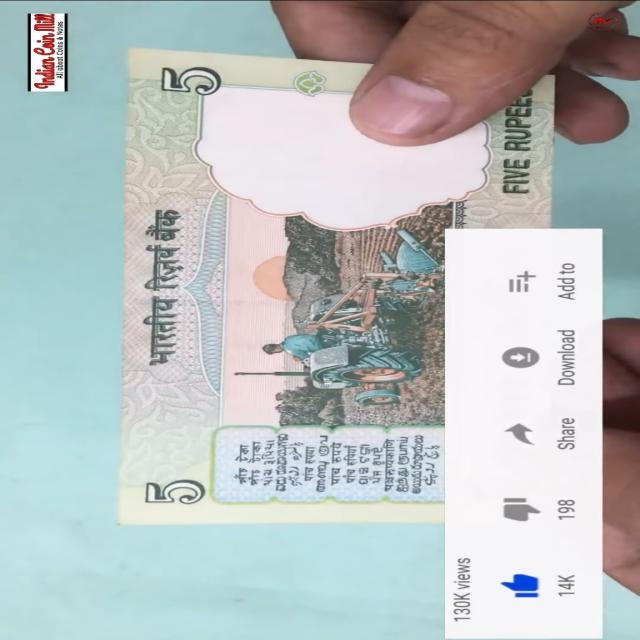5IndianRupees: (120, 54, 554, 522)
